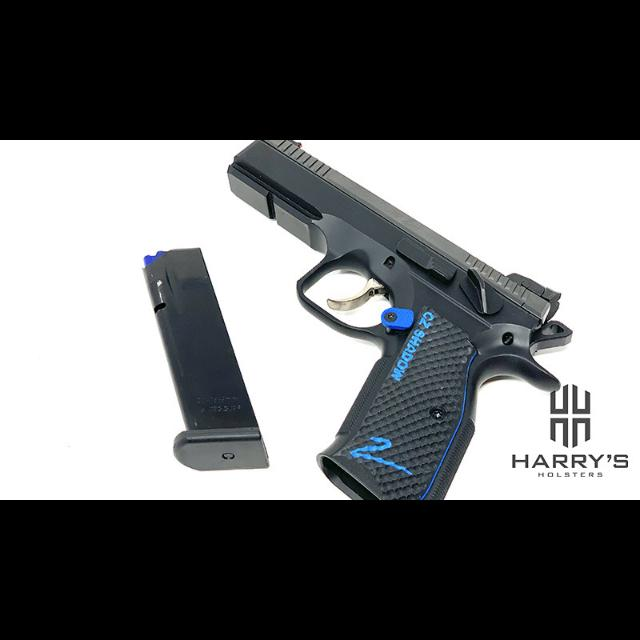handgun: (224, 140, 576, 500)
